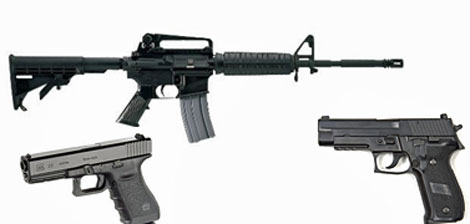Arma Real: (6, 29, 409, 142), (313, 110, 460, 224), (19, 135, 176, 224)
